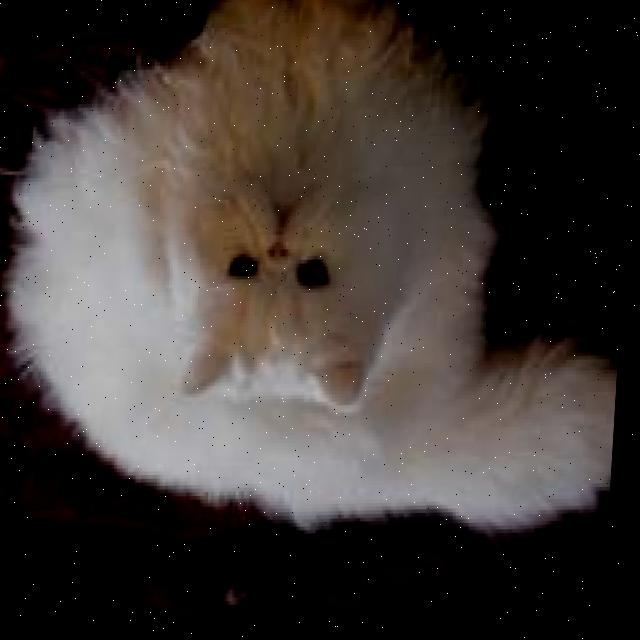Persian: (0, 0, 640, 556)
